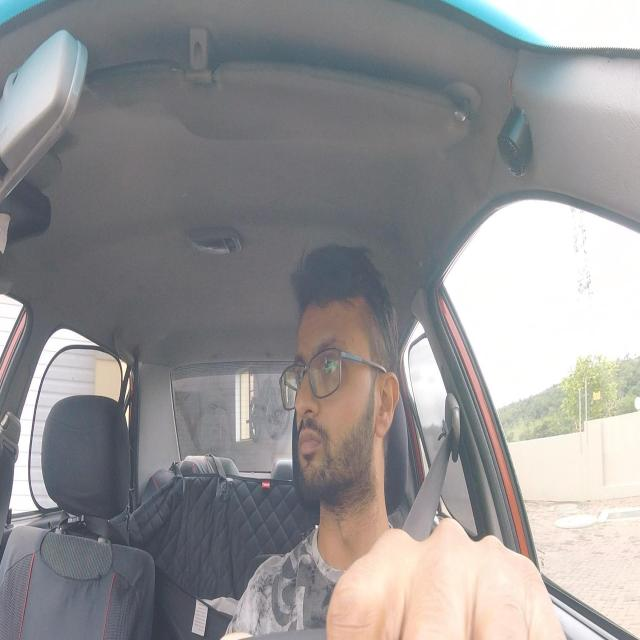open: (311, 327, 354, 394)
